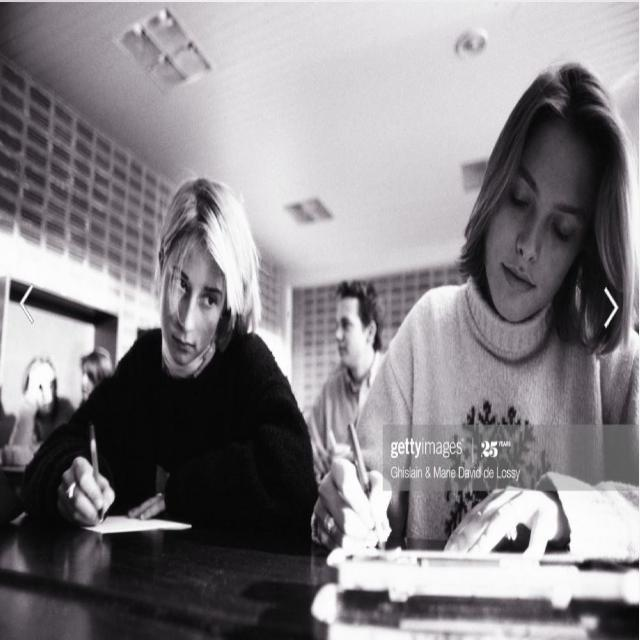cheating: (110, 160, 286, 434)
good: (440, 40, 640, 427)
